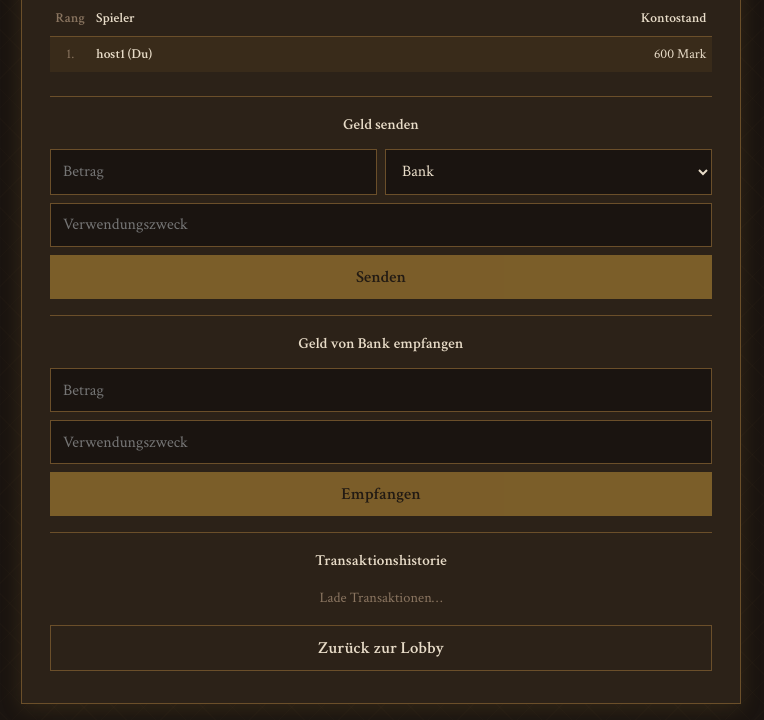
Test case: DashboardPage › zeigt Fehler bei fehlgeschlagenem Empfang
(page scrolled)
Expected: the text "Geld von Bank empfangen" is shown, [298,334,464,353]
Step 1. Type "100" into the number field with placeholder "Betrag" below "Geld von Bank empfangen" → (381, 390), box [50,368,712,412]
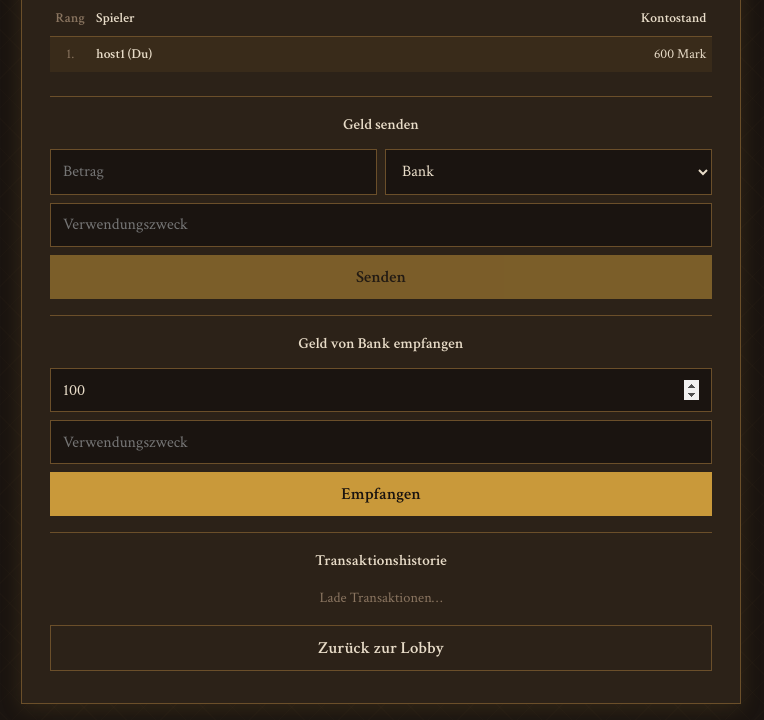
Step 2. Click the button "Empfangen" → (381, 494), box [50,472,712,516]
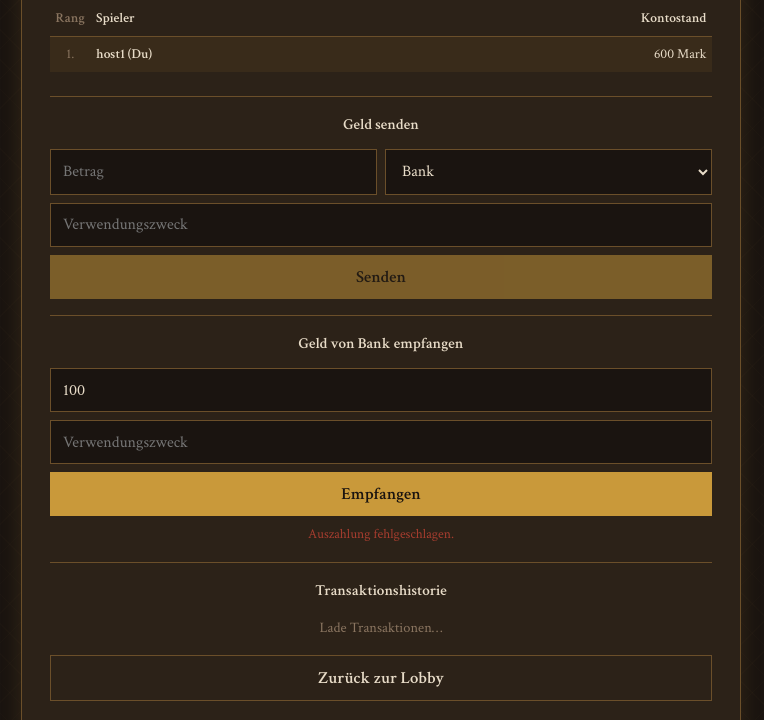
Expected: the text "Auszahlung fehlgeschlagen." is shown, [308,526,454,544]
